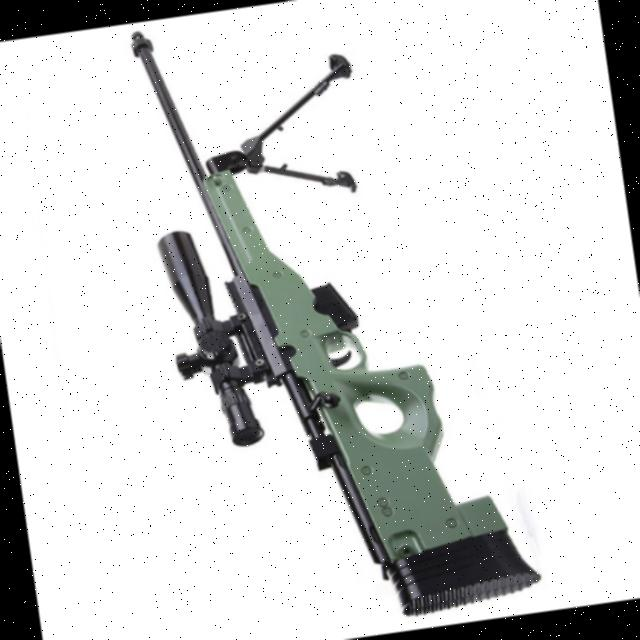Sniper: (86, 0, 548, 640)
